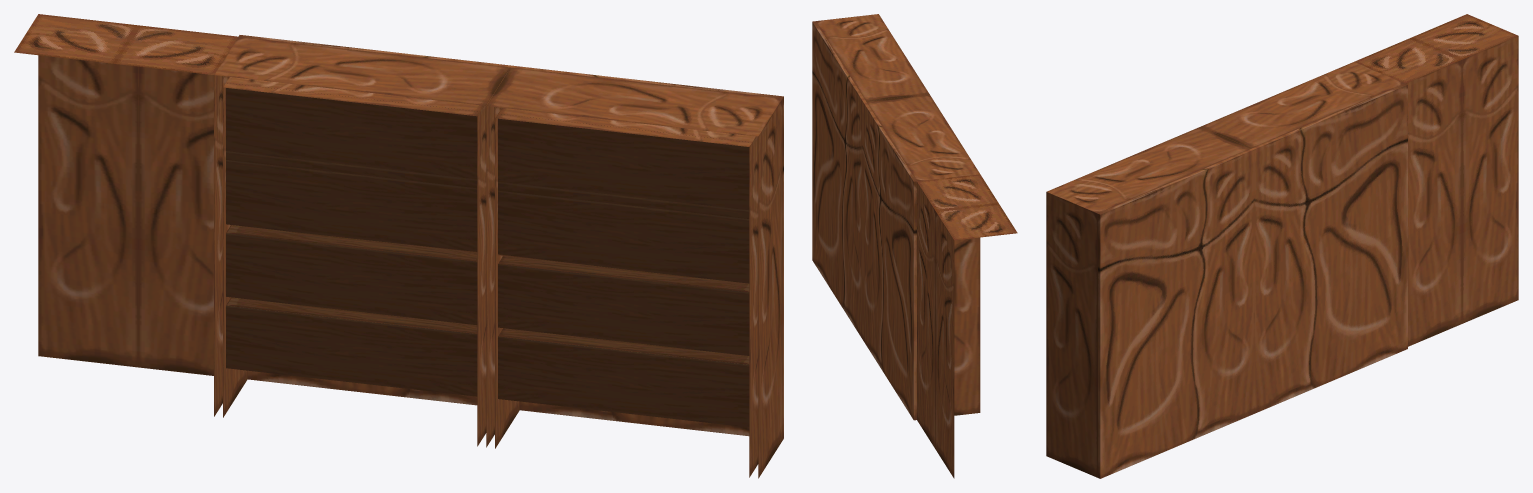
Rendered from EKH_GROTTO_PS_GR_BOOKC326__GX.fbx.
The picture shows the model from 3 angles, left to right: view 1: azimuth 30°, elevation 25°; view 2: azimuth 150°, elevation 25°; view 3: azimuth 270°, elevation 25°; orthographic projection. The views are drawn at different scales.
Parts seen in each view (by area): view 1: EKH_GROTTO_PS_GR_BOOKC326__GX; view 2: EKH_GROTTO_PS_GR_BOOKC326__GX; view 3: EKH_GROTTO_PS_GR_BOOKC326__GX.
Part boxes in pixels (x1=…): EKH_GROTTO_PS_GR_BOOKC326__GX: x1=14, y1=14, x2=783, y2=478; EKH_GROTTO_PS_GR_BOOKC326__GX: x1=812, y1=14, x2=1017, y2=478; EKH_GROTTO_PS_GR_BOOKC326__GX: x1=1046, y1=14, x2=1518, y2=478.
Bounding box in the file's own units: 34199 × 21000 × 34019.
Materials: 6 (6 with a texture image).
